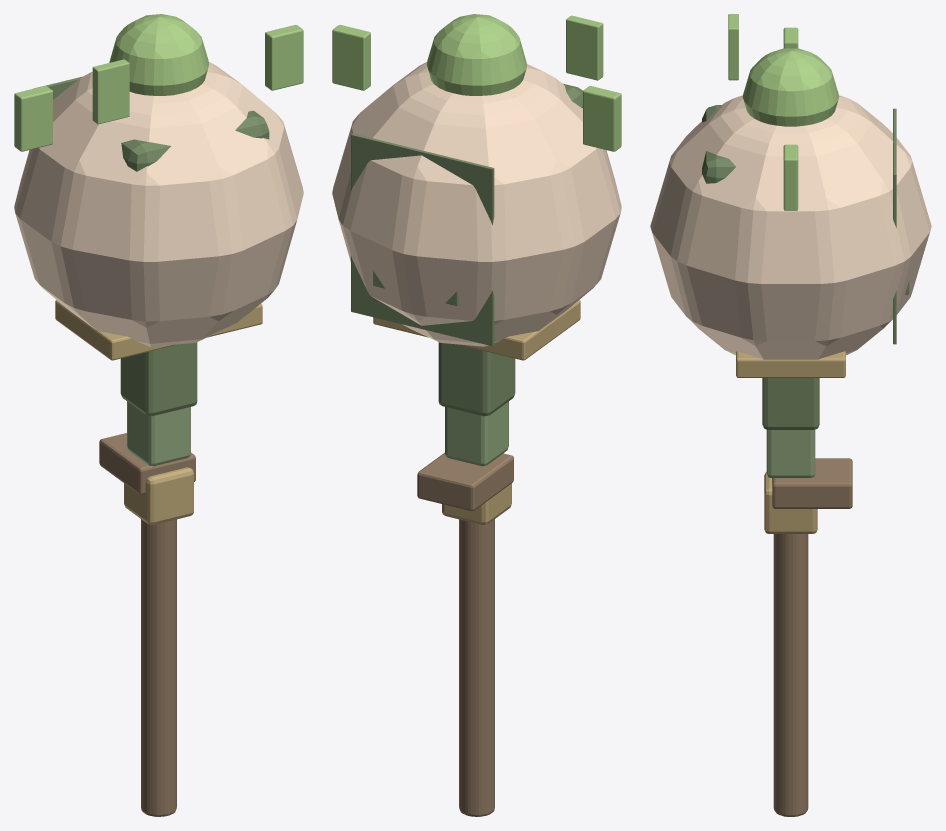
File: druid_v2.glb
3 views of the same model, side by side, from view 1: azimuth 30°, elevation 25°; view 2: azimuth 150°, elevation 25°; view 3: azimuth 270°, elevation 25° (orthographic). The views are drawn at different scales.
Parts seen in each view (by area): view 1: Druid_Skull, Druid_StaffShaft, Druid_StaffOrb, Druid_LegL, Druid_ArmL, Druid_WrapL, Druid_Cinch, Druid_BootL, Druid_LeafL, Druid_LeafR, Druid_HoodLeaf, Druid_Hood; view 2: Druid_Skull, Druid_StaffShaft, Druid_StaffOrb, Druid_RobeFront, Druid_LegL, Druid_BootL, Druid_ArmL, Druid_LeafL, Druid_LeafR, Druid_Cinch, Druid_HoodLeaf, Druid_WrapL; view 3: Druid_Skull, Druid_StaffShaft, Druid_StaffOrb, Druid_BootL, Druid_LegL, Druid_ArmL, Druid_Cinch, Druid_WrapL, Druid_LeafR, Druid_Hood, Druid_HoodLeaf, Druid_RobeFront.
Boxes of the visible parts, <box> form: Druid_Skull: <box>14,62,303,346</box>; Druid_StaffShaft: <box>141,519,176,816</box>; Druid_StaffOrb: <box>109,14,208,95</box>; Druid_LegL: <box>120,342,197,416</box>; Druid_ArmL: <box>127,401,190,466</box>; Druid_WrapL: <box>124,467,193,524</box>; Druid_Cinch: <box>55,300,262,360</box>; Druid_BootL: <box>99,433,195,494</box>; Druid_LeafL: <box>14,86,52,151</box>; Druid_LeafR: <box>265,25,303,90</box>; Druid_HoodLeaf: <box>92,59,129,124</box>; Druid_Hood: <box>121,110,269,171</box>; Druid_Skull: <box>332,62,621,346</box>; Druid_StaffShaft: <box>459,519,494,816</box>; Druid_StaffOrb: <box>427,14,526,95</box>; Druid_RobeFront: <box>351,133,494,346</box>; Druid_LegL: <box>438,342,515,416</box>; Druid_BootL: <box>417,452,513,511</box>; Druid_ArmL: <box>445,401,508,466</box>; Druid_LeafL: <box>583,86,621,151</box>; Druid_LeafR: <box>332,25,370,90</box>; Druid_Cinch: <box>373,300,580,360</box>; Druid_HoodLeaf: <box>566,15,603,80</box>; Druid_WrapL: <box>442,483,511,524</box>; Druid_Skull: <box>650,95,931,359</box>; Druid_StaffShaft: <box>773,534,808,816</box>; Druid_StaffOrb: <box>742,48,839,126</box>; Druid_BootL: <box>772,458,852,508</box>; Druid_LegL: <box>762,378,819,429</box>; Druid_ArmL: <box>766,429,815,477</box>; Druid_Cinch: <box>736,351,845,377</box>; Druid_WrapL: <box>764,472,817,533</box>; Druid_LeafR: <box>783,144,798,210</box>; Druid_Hood: <box>702,105,735,183</box>; Druid_HoodLeaf: <box>728,14,738,80</box>; Druid_RobeFront: <box>893,108,896,344</box>.
Bounding box in the file's own units: 0.4364 × 1.17 × 0.3927.
